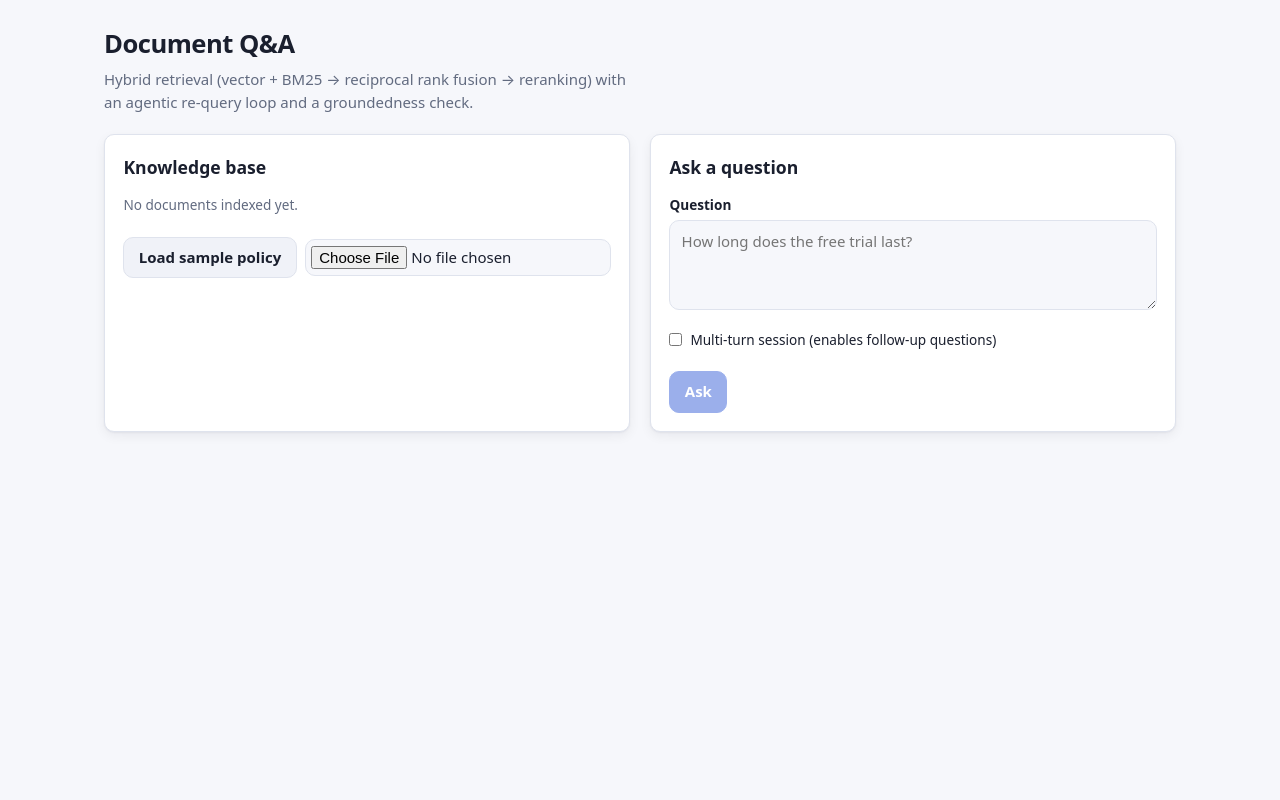
Test: DocQA › renders an abstention distinctly and without citations
In the text box labelled "Question": [913, 265] box [669, 220, 1157, 310], type "Unrelated question entirely?"
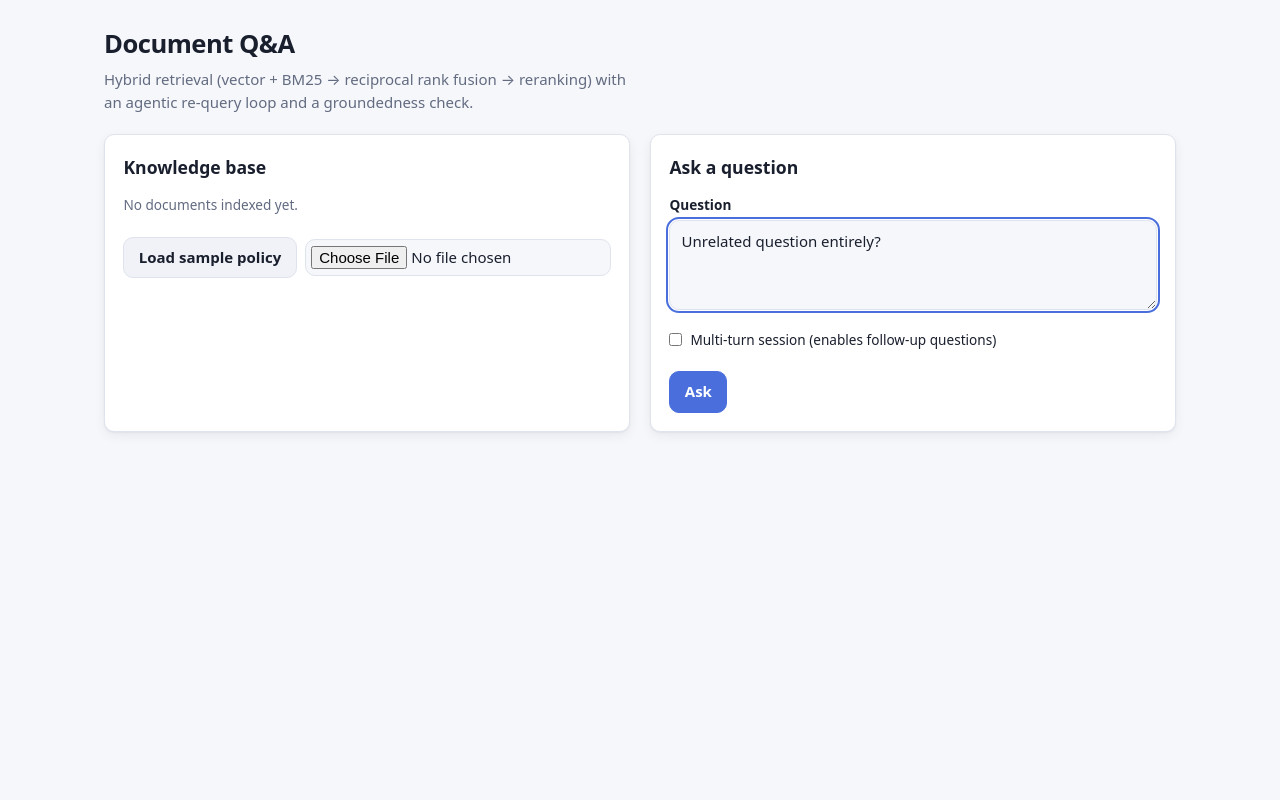
Click the button "Ask": [698, 392] box [669, 371, 727, 413]
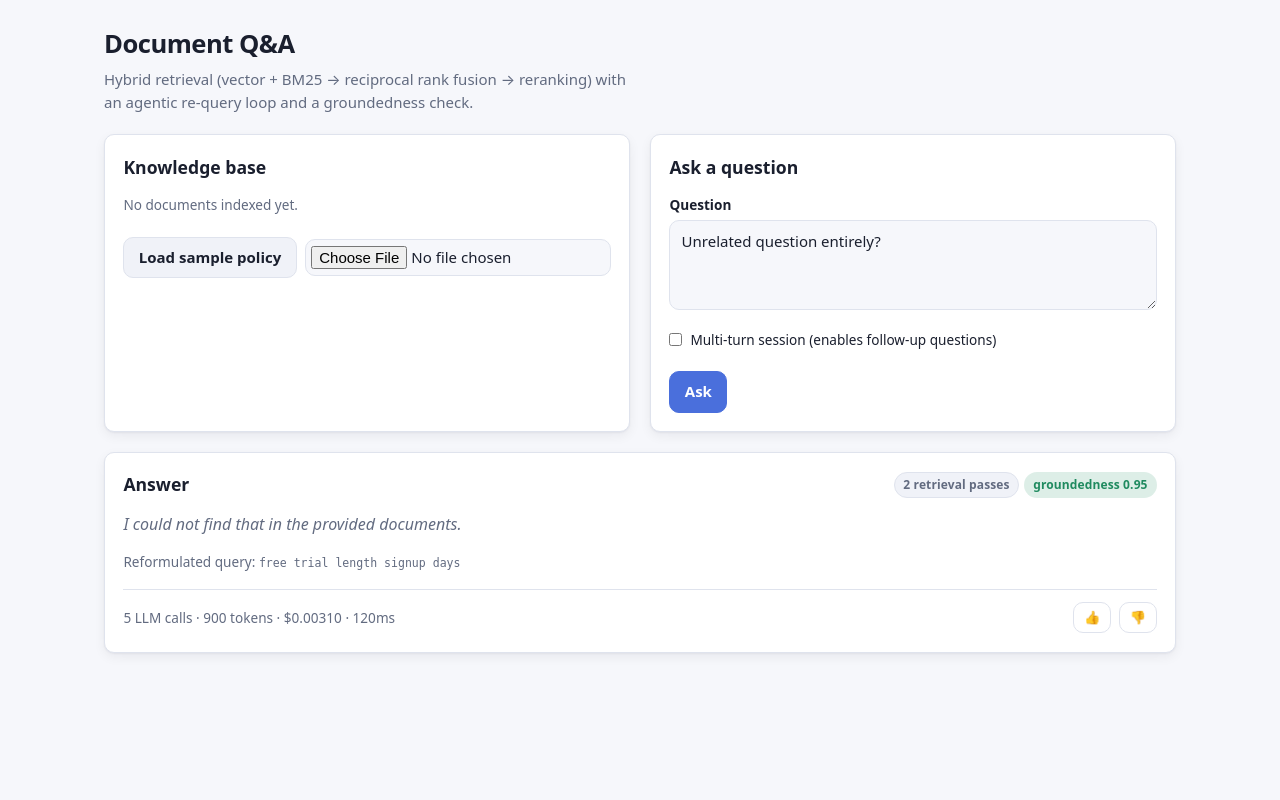
Expected: the text "I could not find that in the provided documents." is shown, [123, 513, 462, 535]
